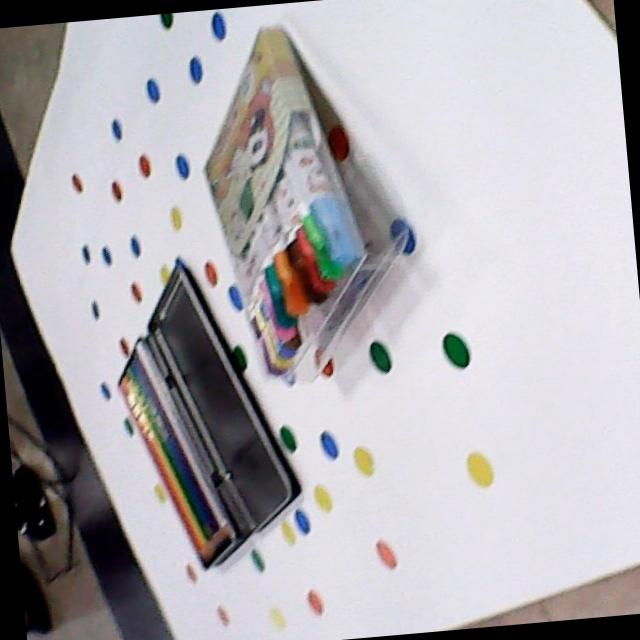color: (105, 329, 248, 588)
signpen: (190, 11, 427, 405)
